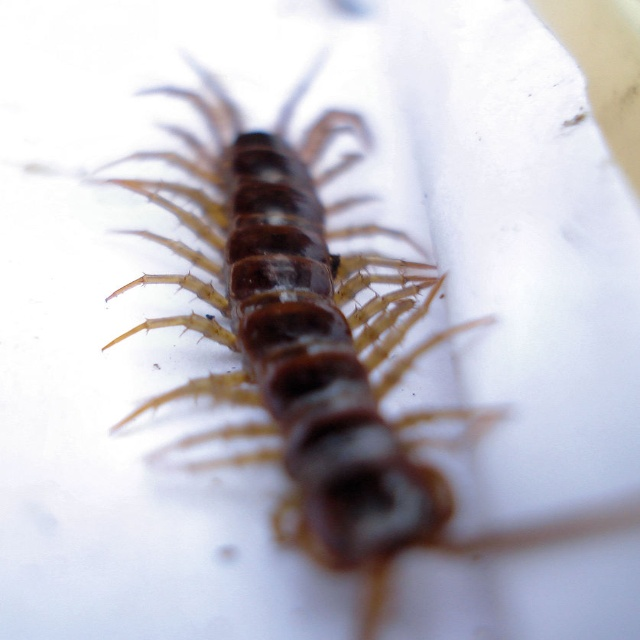Centipede: (100, 50, 640, 634)
